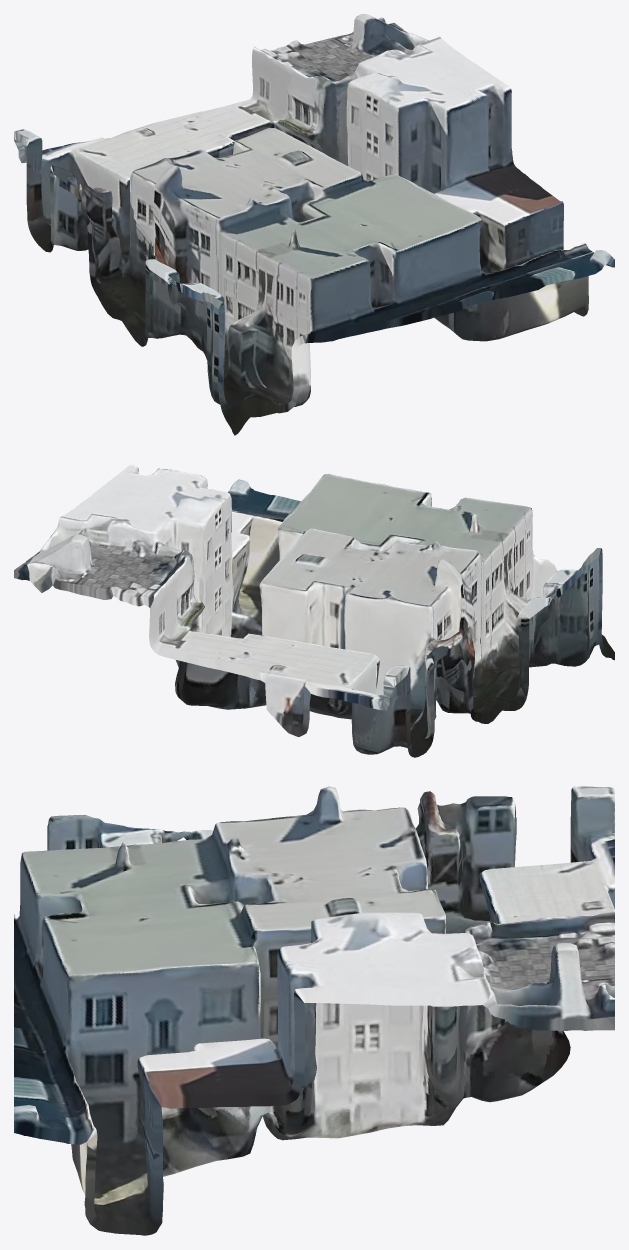
The model's file is z20-167727-405192-h0-yup-uvflip-v3-world.glb.
3 renders of one model, top to bottom at view 1: azimuth 30°, elevation 25°; view 2: azimuth 150°, elevation 25°; view 3: azimuth 270°, elevation 25°, orthographic. The views are drawn at different scales.
Size of the model in its own units: 30.16 by 14.4 by 30.32.
1 material, 1 textured.
